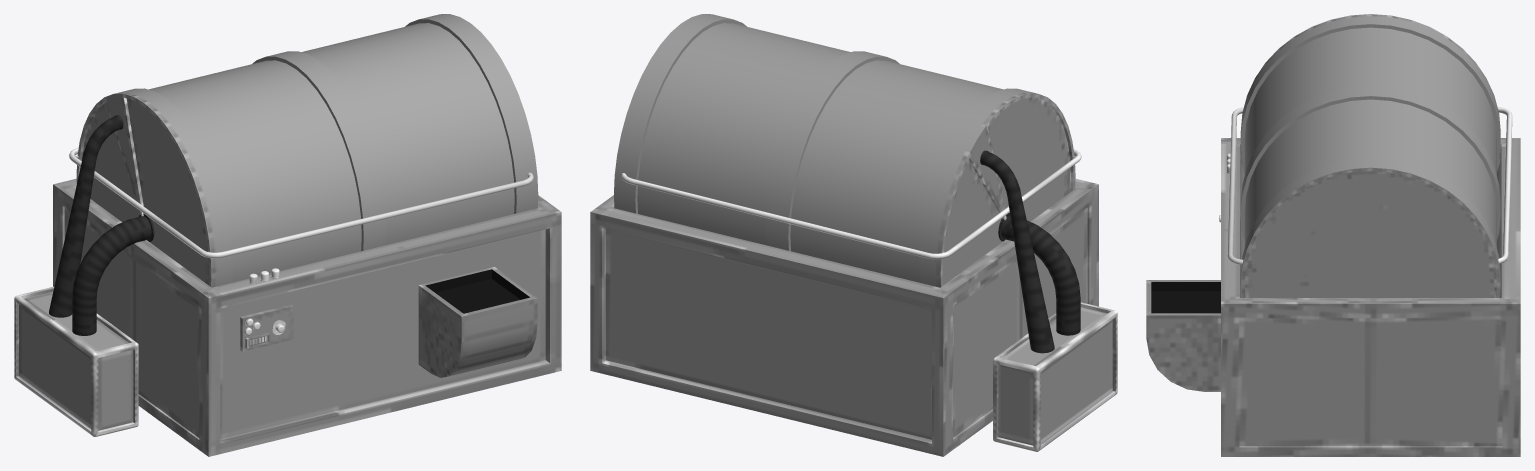
File: dyingMachine.fbx
3 views of the same model, side by side, from view 1: azimuth 30°, elevation 25°; view 2: azimuth 150°, elevation 25°; view 3: azimuth 270°, elevation 25° (orthographic). The views are drawn at different scales.
Parts seen in each view (by area): view 1: polySurface3; view 2: polySurface3; view 3: polySurface3.
Boxes of the visible parts, x1=… form: polySurface3: x1=14, y1=14, x2=561, y2=456; polySurface3: x1=590, y1=14, x2=1117, y2=456; polySurface3: x1=1146, y1=14, x2=1520, y2=456.
Size of the model in its own units: 111 by 74.02 by 88.67.
